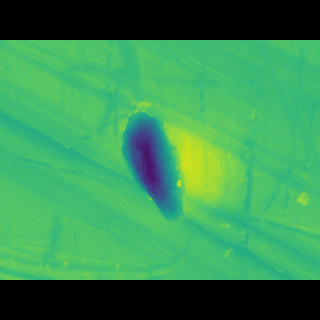Loch: (192, 122, 319, 243), (113, 113, 189, 208)
